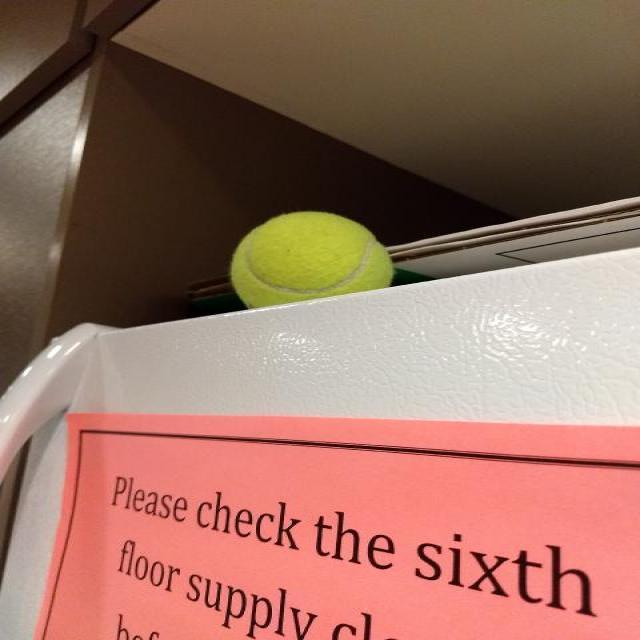tennis-ball: (227, 211, 393, 286)
